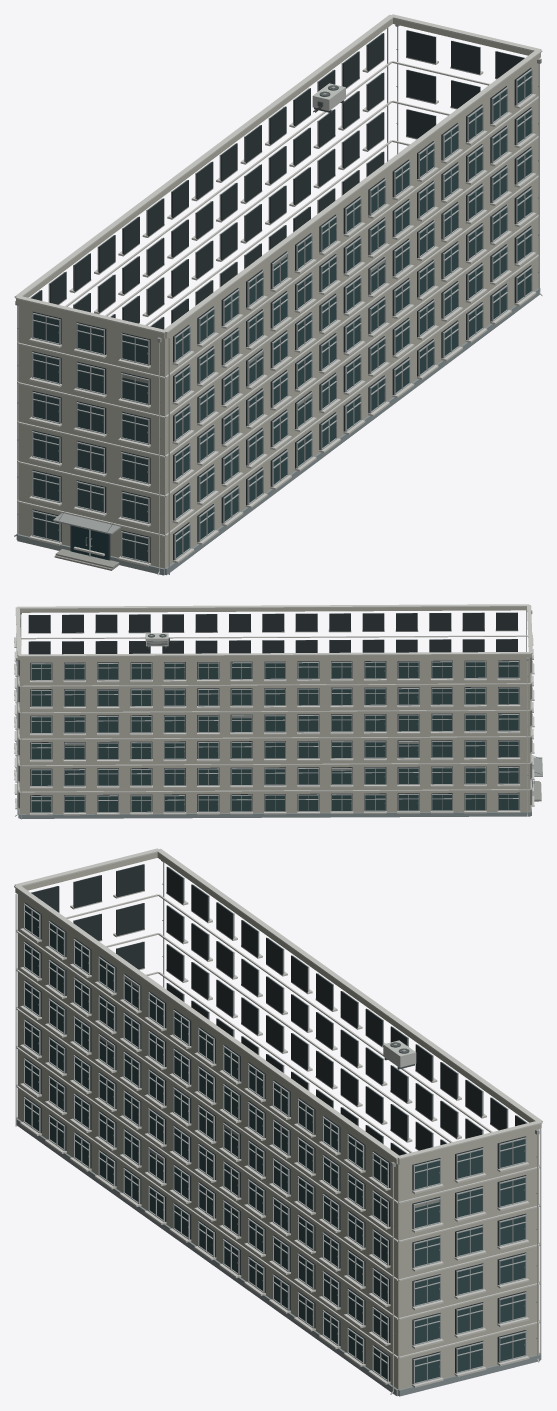
The model's file is osm_way_225265346.glb.
3 renders of one model, top to bottom at view 1: azimuth 30°, elevation 25°; view 2: azimuth 150°, elevation 25°; view 3: azimuth 270°, elevation 25°, orthographic. The views are drawn at different scales.
Visible parts, largest first — view 1: Windows and facade details | osm_way_225265346, Architecture | osm_way_225265346, Roof services | osm_way_225265346, EXTERIOR::osm_way_225265346::inferred entry doors canopy and, EXTERIOR::osm_way_225265346::rainwater and roof service deta; view 2: Windows and facade details | osm_way_225265346, Architecture | osm_way_225265346, Roof services | osm_way_225265346, EXTERIOR::osm_way_225265346::rainwater and roof service deta, EXTERIOR::osm_way_225265346::inferred entry doors canopy and; view 3: Windows and facade details | osm_way_225265346, Architecture | osm_way_225265346, Roof services | osm_way_225265346, EXTERIOR::osm_way_225265346::rainwater and roof service deta.
Boxes of the visible parts, x1,y1,x2,y2 form: Windows and facade details | osm_way_225265346: [29, 28, 536, 574]; Architecture | osm_way_225265346: [16, 18, 540, 575]; Roof services | osm_way_225265346: [14, 14, 542, 333]; EXTERIOR::osm_way_225265346::inferred entry doors canopy and: [53, 508, 120, 570]; EXTERIOR::osm_way_225265346::rainwater and roof service deta: [14, 24, 542, 575]; Windows and facade details | osm_way_225265346: [14, 610, 534, 819]; Architecture | osm_way_225265346: [18, 606, 531, 818]; Roof services | osm_way_225265346: [15, 604, 532, 656]; EXTERIOR::osm_way_225265346::rainwater and roof service deta: [15, 610, 532, 816]; EXTERIOR::osm_way_225265346::inferred entry doors canopy and: [532, 756, 542, 801]; Windows and facade details | osm_way_225265346: [15, 864, 541, 1387]; Architecture | osm_way_225265346: [15, 852, 541, 1396]; Roof services | osm_way_225265346: [14, 848, 542, 1159]; EXTERIOR::osm_way_225265346::rainwater and roof service deta: [161, 860, 539, 1394].
Size of the model in its own units: 54.98 by 20.58 by 39.61.
